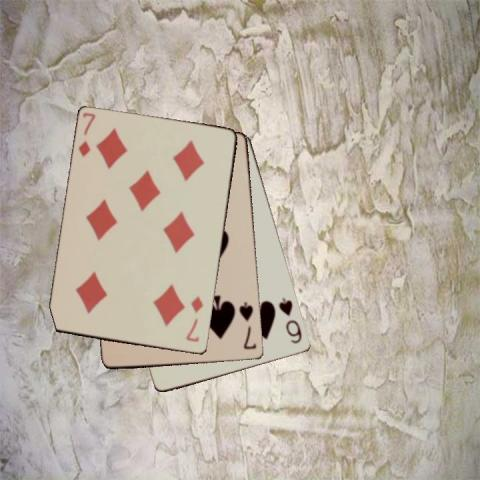6s: (276, 295, 303, 345)
7d: (184, 293, 206, 344), (76, 109, 98, 159)
7s: (236, 299, 258, 351)
